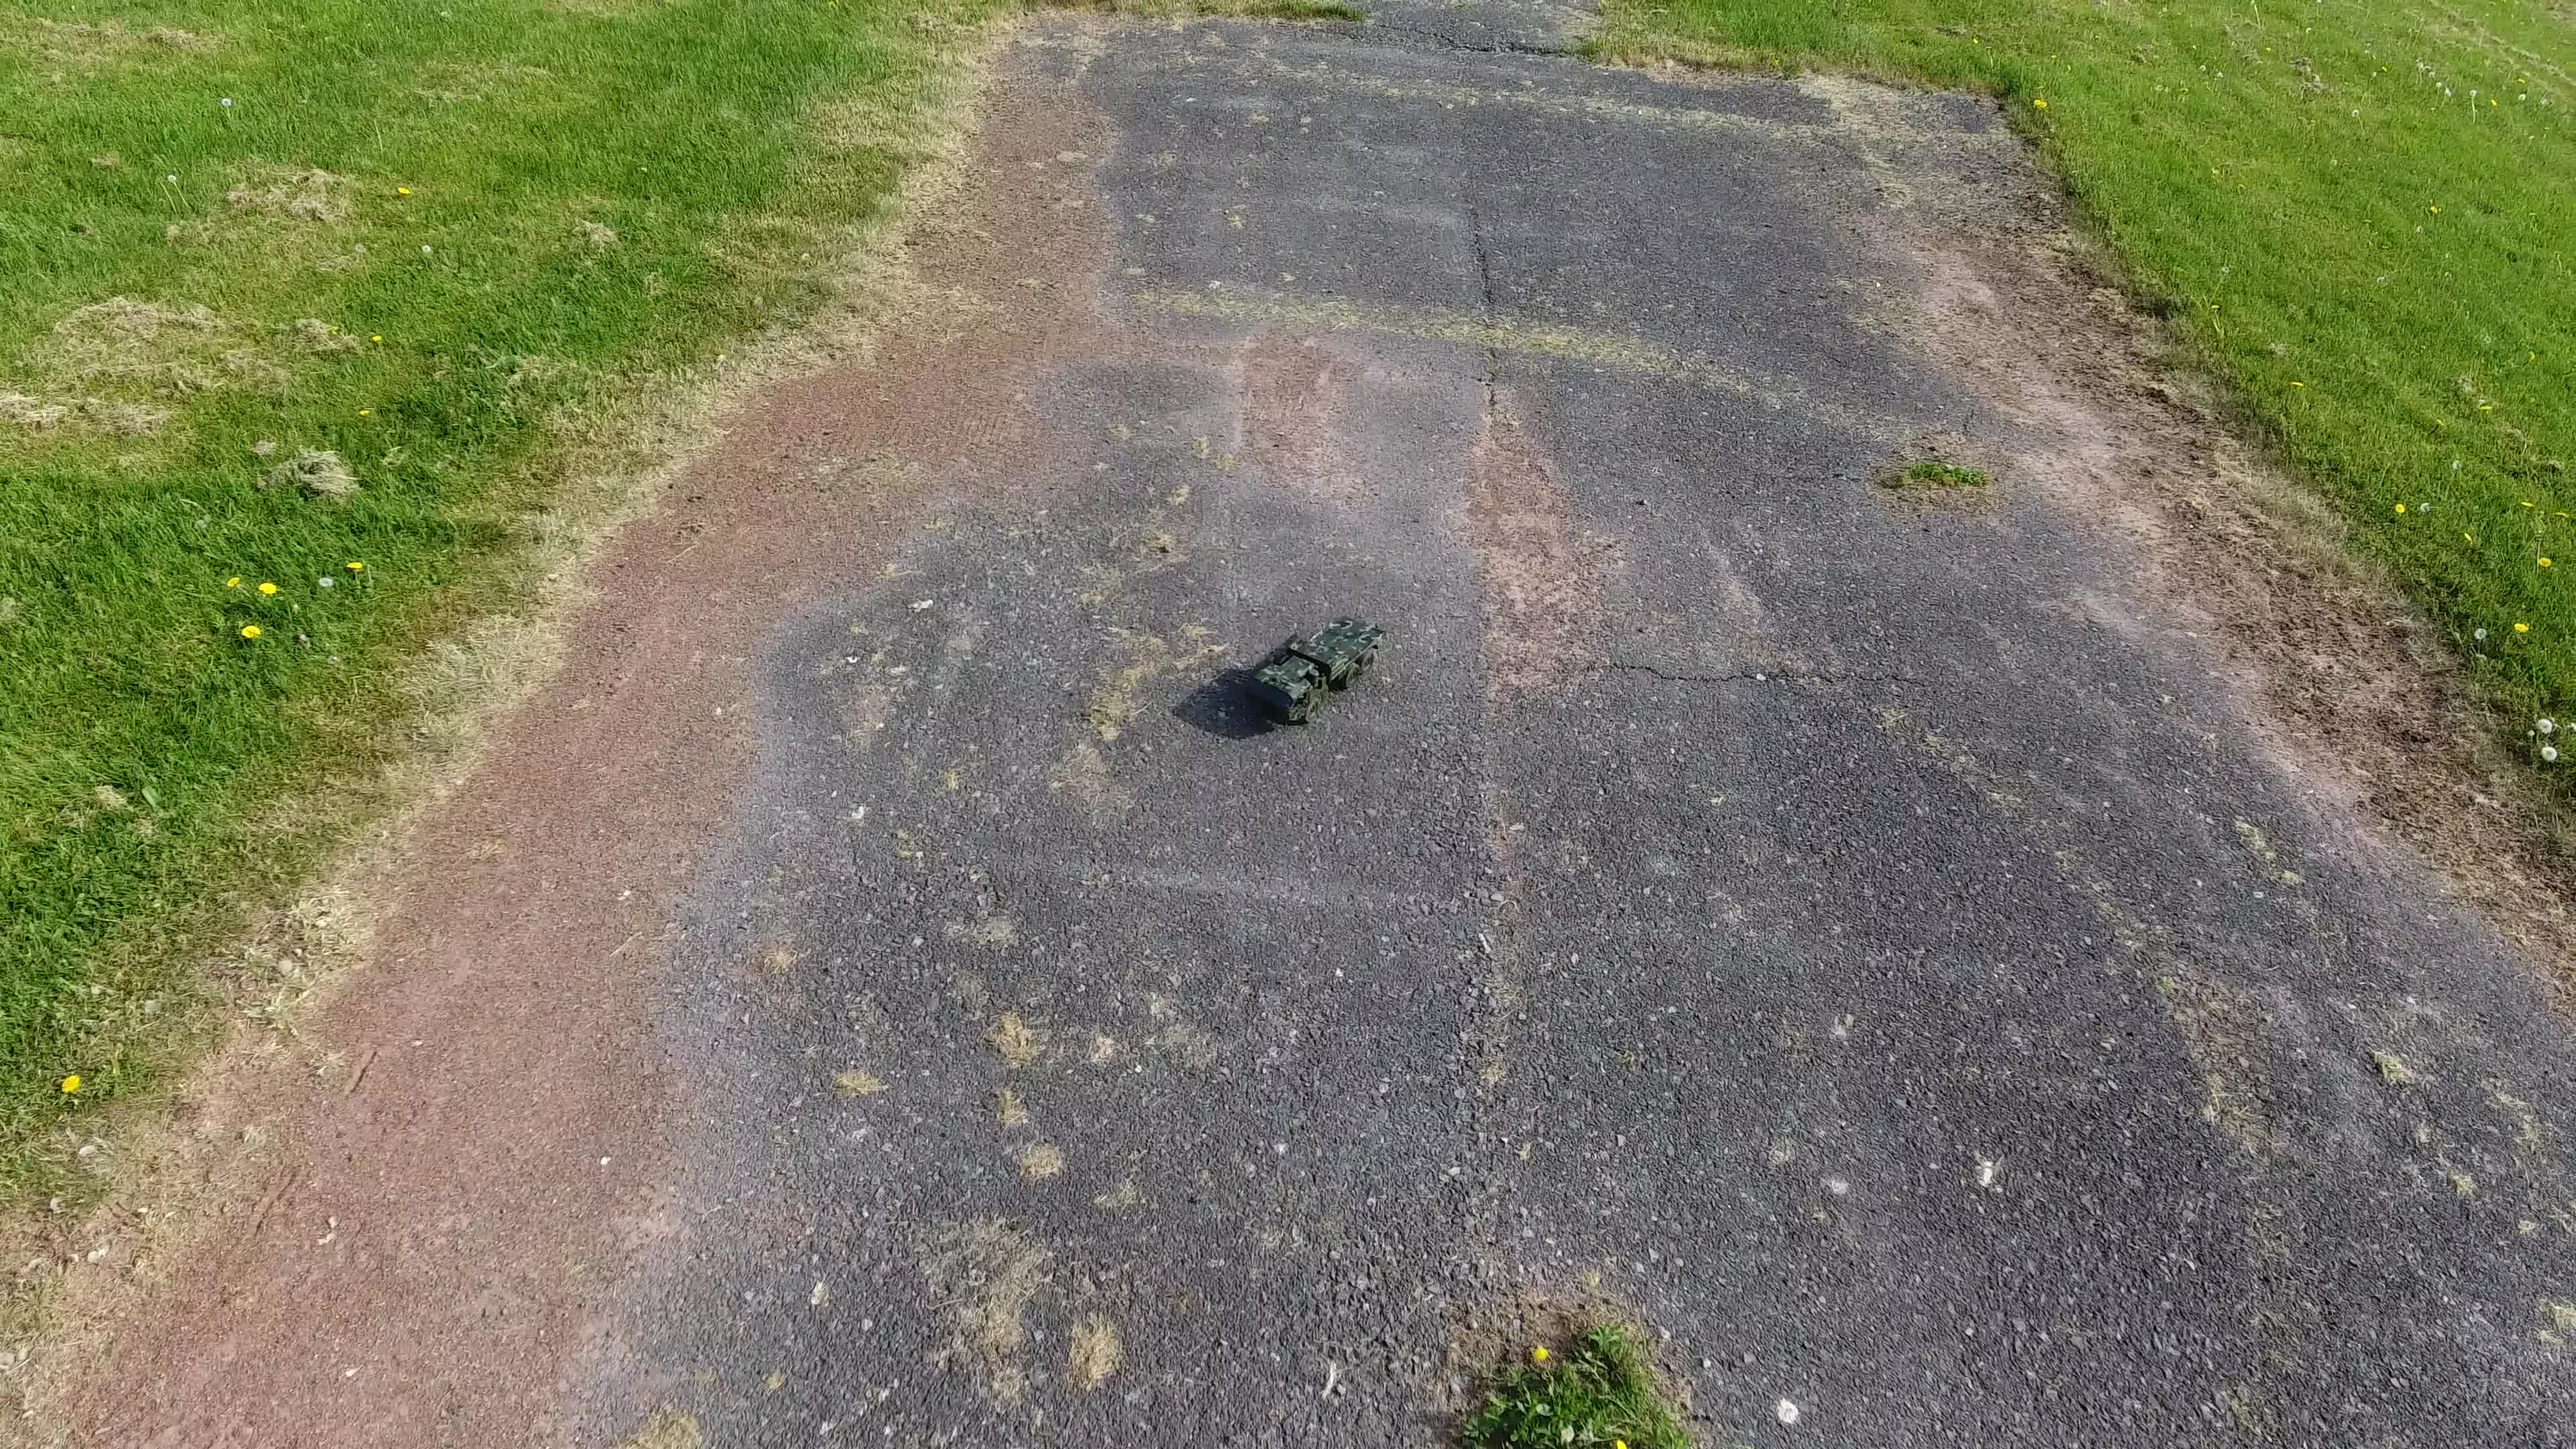transporter9_camo: (1231, 612, 1389, 727)
